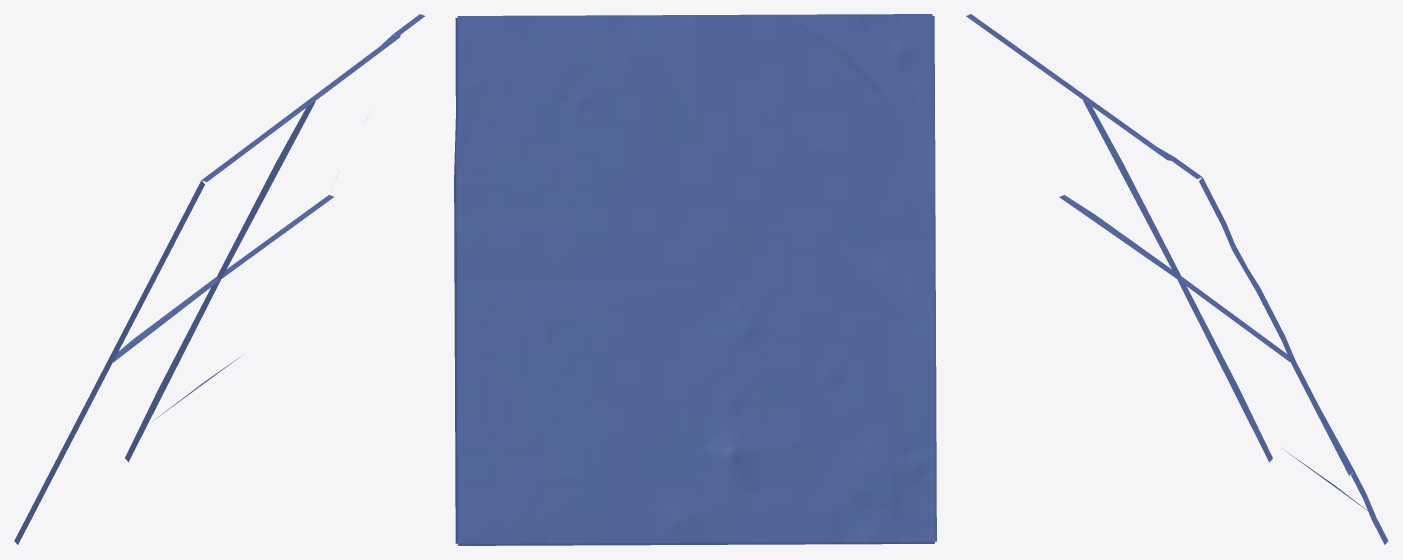
The picture shows the model from 3 angles, left to right: view 1: azimuth 30°, elevation 25°; view 2: azimuth 150°, elevation 25°; view 3: azimuth 270°, elevation 25°; orthographic projection. The views are drawn at different scales.
Bounding box in the file's own units: 78642 × 71500 × 66191.
1 material, 1 textured.
